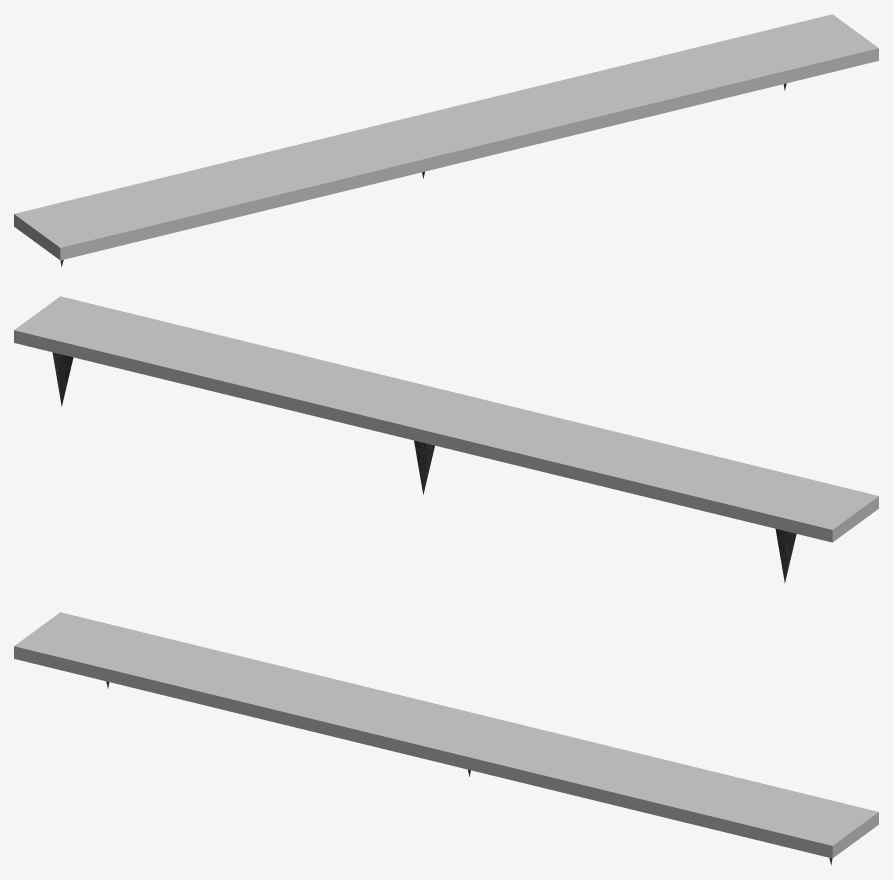
File: large shelf.fbx
The picture shows the model from 3 angles, top to bottom: view 1: azimuth 30°, elevation 25°; view 2: azimuth 150°, elevation 25°; view 3: azimuth 330°, elevation 25°; orthographic projection.
Visible parts, largest first — view 1: Cube; view 2: Cube, Cone; view 3: Cube.
Part boxes in pixels (x1,y1,x2,y2): Cube: (14, 14, 878, 260); Cube: (14, 296, 878, 542); Cone: (52, 352, 796, 582); Cube: (14, 612, 878, 858).
Bounding box in the file's own units: 2036 × 155 × 200.
